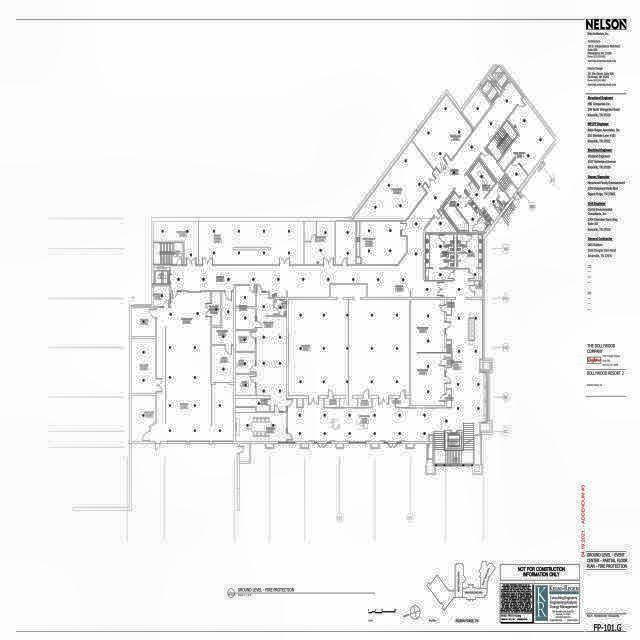room: (159, 37, 590, 425), (287, 269, 488, 442), (288, 285, 409, 407), (150, 292, 234, 442), (352, 140, 446, 246), (481, 98, 564, 184), (406, 95, 481, 174), (199, 221, 304, 264), (411, 299, 451, 405), (455, 158, 515, 225), (256, 293, 287, 411), (437, 186, 492, 246), (356, 221, 407, 264), (153, 221, 198, 264), (235, 407, 287, 442), (419, 209, 457, 248), (455, 232, 485, 281), (131, 338, 156, 394), (425, 234, 454, 280), (304, 221, 335, 264), (212, 292, 234, 345), (131, 395, 156, 441), (502, 158, 531, 190), (335, 221, 355, 264), (212, 346, 233, 382), (131, 308, 156, 337), (235, 398, 269, 411), (235, 353, 255, 374), (235, 375, 255, 396), (235, 330, 255, 351), (235, 308, 255, 329), (235, 286, 255, 307), (153, 285, 170, 306), (212, 292, 221, 326), (304, 221, 316, 241), (239, 444, 249, 462), (275, 300, 287, 315), (324, 398, 339, 407), (396, 398, 409, 407), (358, 398, 371, 407), (475, 281, 482, 297), (445, 234, 454, 245), (457, 234, 466, 245), (446, 389, 451, 407), (446, 300, 451, 315), (444, 254, 454, 261), (457, 246, 466, 253), (444, 247, 454, 253), (445, 262, 454, 268), (446, 358, 451, 367)
